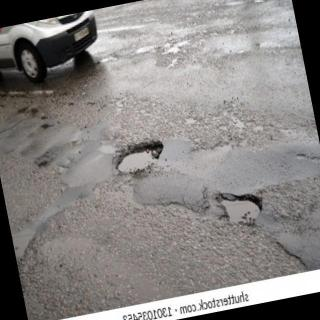pothole: (116, 141, 164, 176), (218, 194, 262, 224)
